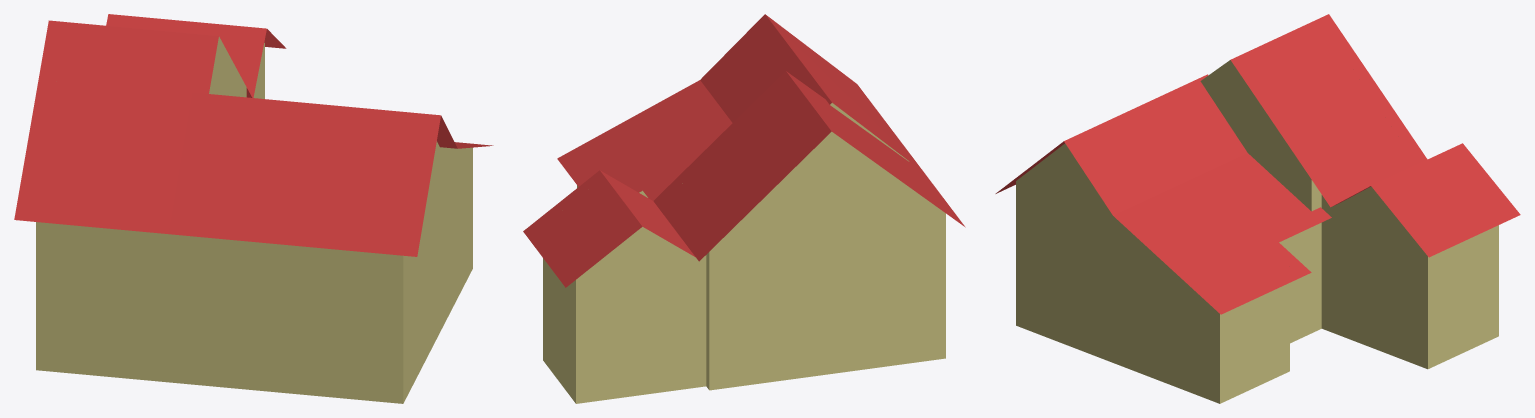
The picture shows the model from 3 angles, left to right: view 1: azimuth 30°, elevation 25°; view 2: azimuth 150°, elevation 25°; view 3: azimuth 270°, elevation 25°; orthographic projection. The views are drawn at different scales.
Bounding box in the file's own units: 22.53 × 25.63 × 13.02.
